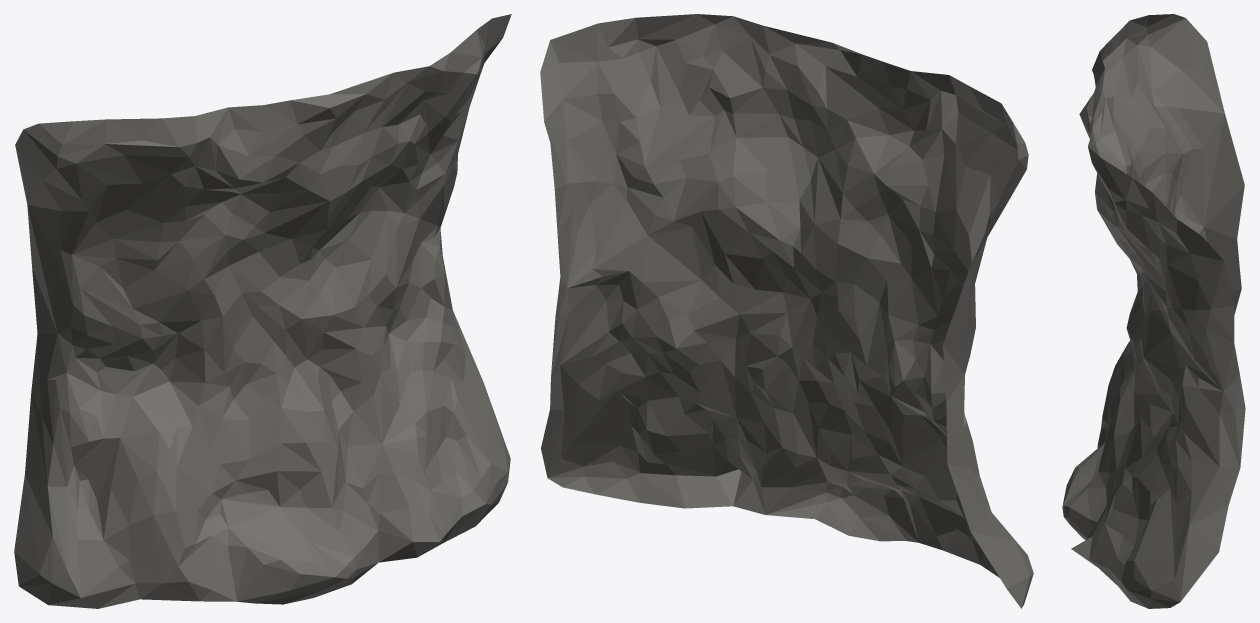
The model's file is SM_Env_Cave_Wall_Large_Corner_01.fbx.
The picture shows the model from 3 angles, left to right: view 1: azimuth 30°, elevation 25°; view 2: azimuth 150°, elevation 25°; view 3: azimuth 270°, elevation 25°; orthographic projection. The views are drawn at different scales.
Parts seen in each view (by area): view 1: SM_Env_Cave_Wall_Large_Corner_01; view 2: SM_Env_Cave_Wall_Large_Corner_01; view 3: SM_Env_Cave_Wall_Large_Corner_01.
Boxes of the visible parts, left/top/right/bottom form: SM_Env_Cave_Wall_Large_Corner_01: left=14, top=14, right=511, bottom=608; SM_Env_Cave_Wall_Large_Corner_01: left=540, top=14, right=1033, bottom=608; SM_Env_Cave_Wall_Large_Corner_01: left=1062, top=14, right=1245, bottom=608.
Bounding box in the file's own units: 1745 × 1724 × 662.
